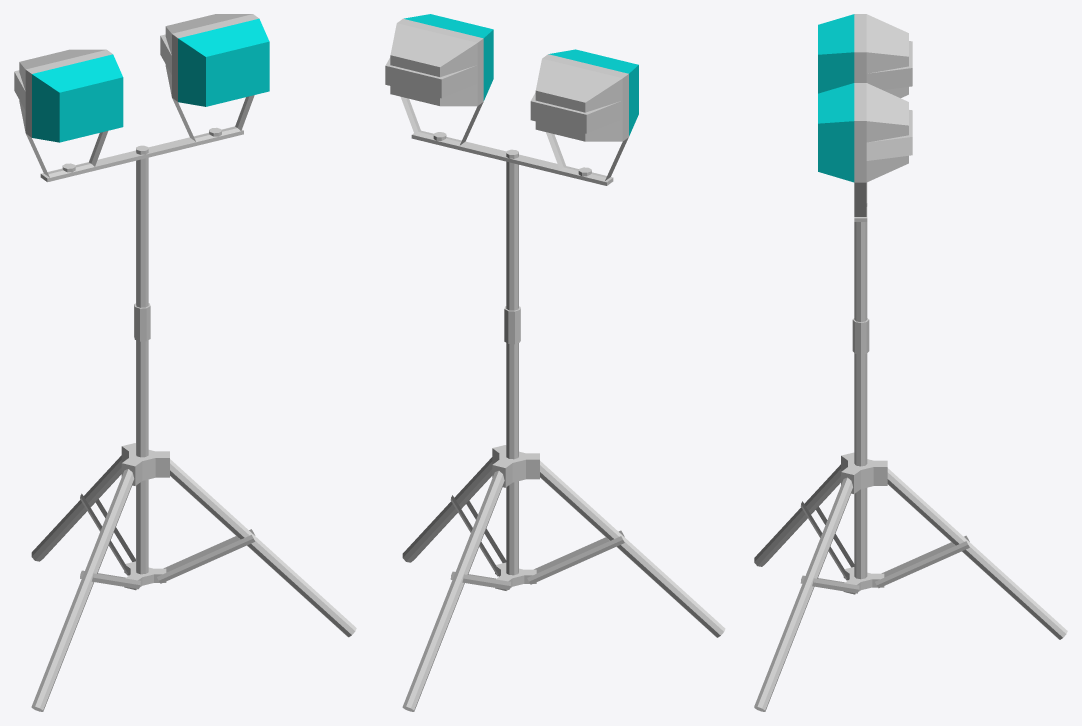
Rendered from m_light_worklight.fbx.
The picture shows the model from 3 angles, left to right: view 1: azimuth 30°, elevation 25°; view 2: azimuth 150°, elevation 25°; view 3: azimuth 270°, elevation 25°; orthographic projection. The views are drawn at different scales.
Parts seen in each view (by area): view 1: sm_light_work; view 2: sm_light_work; view 3: sm_light_work.
Boxes of the visible parts, x1,y1,x2,y2 form: sm_light_work: (14, 14, 356, 711); sm_light_work: (385, 14, 725, 711); sm_light_work: (754, 14, 1067, 711).
Bounding box in the file's own units: 262 × 459 × 228.
